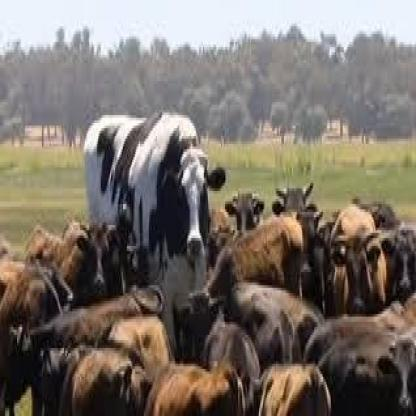cow: (82, 113, 226, 272), (0, 282, 166, 416), (188, 216, 304, 307), (188, 288, 261, 416), (38, 340, 133, 416), (327, 202, 387, 319), (122, 361, 247, 416), (101, 313, 175, 378), (250, 361, 332, 416), (387, 324, 416, 416), (388, 223, 416, 299), (223, 189, 266, 236), (271, 181, 318, 217)
